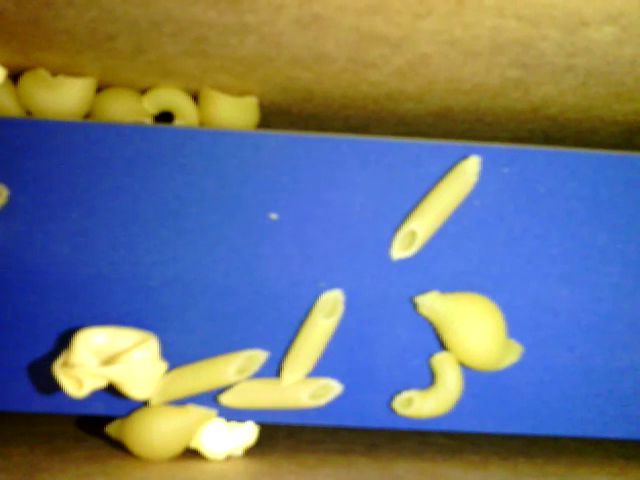elbow: (390, 350, 465, 419), (141, 83, 196, 125)
penne: (387, 151, 482, 262), (150, 347, 268, 407), (278, 287, 345, 388), (215, 377, 345, 408)
shell: (413, 289, 524, 373), (103, 401, 221, 462), (18, 68, 96, 121), (195, 87, 260, 131), (88, 86, 155, 125)
tortellini: (52, 326, 167, 400)
